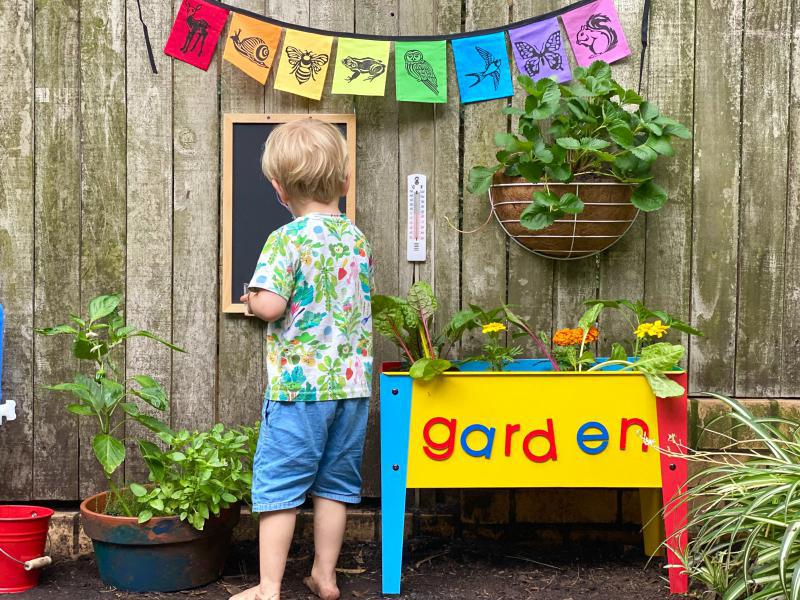child: (230, 116, 393, 600)
